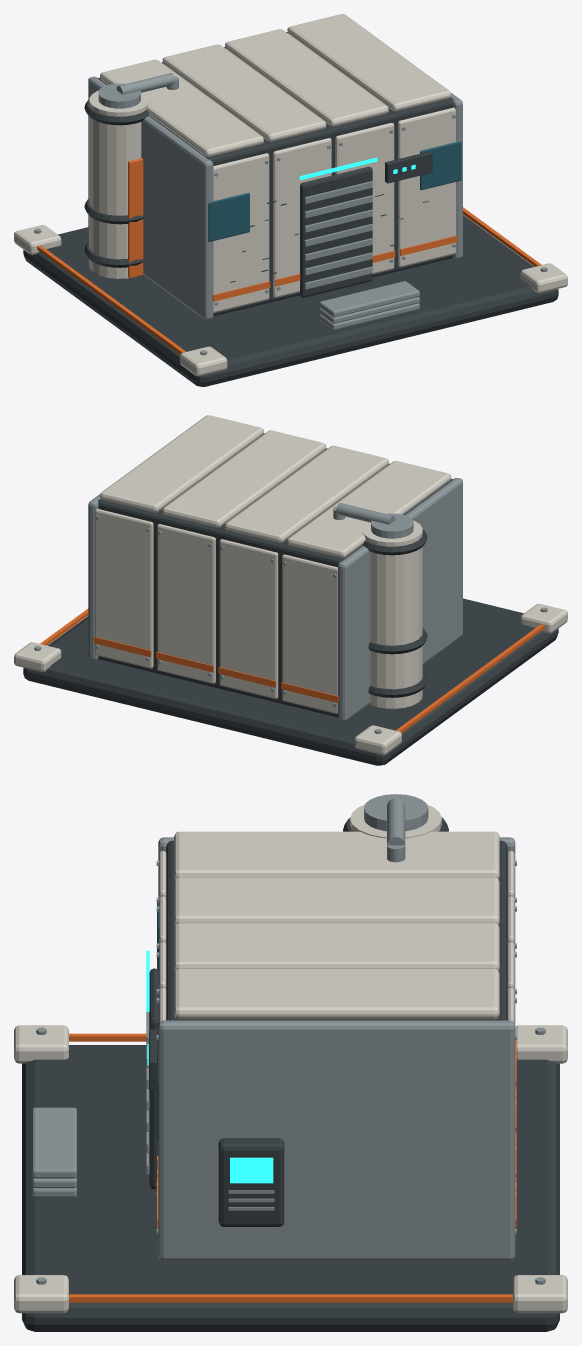
File: SM_CalibrationCenter_Body.fbx
3 views of the same model, one above another, from view 1: azimuth 30°, elevation 25°; view 2: azimuth 150°, elevation 25°; view 3: azimuth 270°, elevation 25° (orthographic). The views are drawn at different scales.
Visible parts, largest first — view 1: SM_CalibrationCenter_Body; view 2: SM_CalibrationCenter_Body; view 3: SM_CalibrationCenter_Body.
Boxes of the visible parts, box(x1,y1,x2,y2) form: SM_CalibrationCenter_Body: box(14, 14, 567, 386); SM_CalibrationCenter_Body: box(14, 415, 567, 765); SM_CalibrationCenter_Body: box(14, 794, 567, 1331).
Size of the model in its own units: 492 by 422 by 257.
